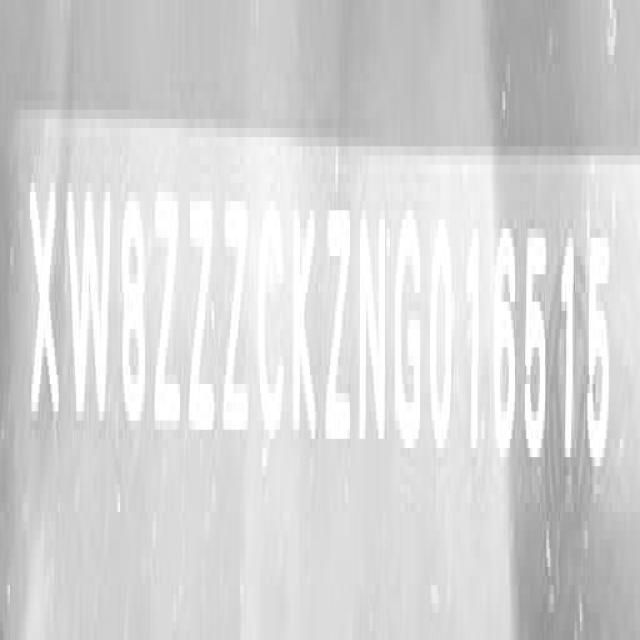0: (428, 213, 456, 462)
1: (556, 215, 576, 472), (462, 213, 482, 465)
5: (588, 212, 616, 470), (524, 218, 550, 464)
6: (489, 221, 516, 463)
8: (121, 188, 149, 443)
C: (256, 193, 288, 450)
G: (393, 213, 424, 458)
K: (291, 194, 320, 456)
N: (357, 204, 388, 457)
W: (68, 178, 116, 443)
X: (26, 164, 62, 437)
Z: (189, 185, 219, 452), (220, 189, 250, 449), (323, 198, 352, 462), (154, 183, 183, 447)
